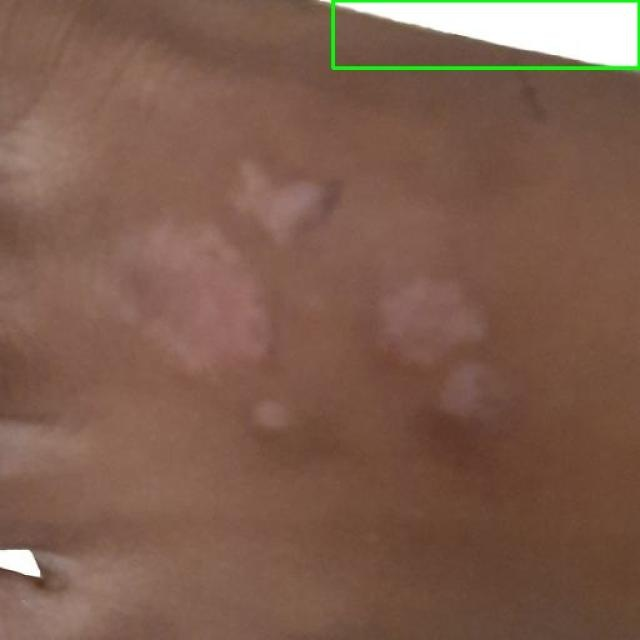Eczema: (332, 0, 639, 68)
